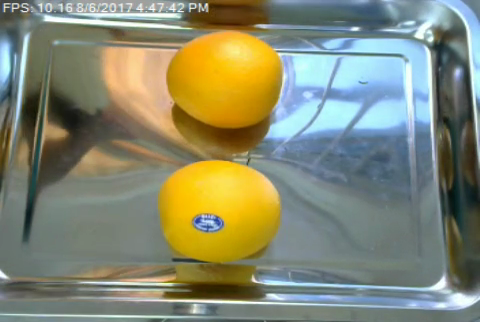Orange: (157, 159, 280, 260), (167, 30, 284, 128)
